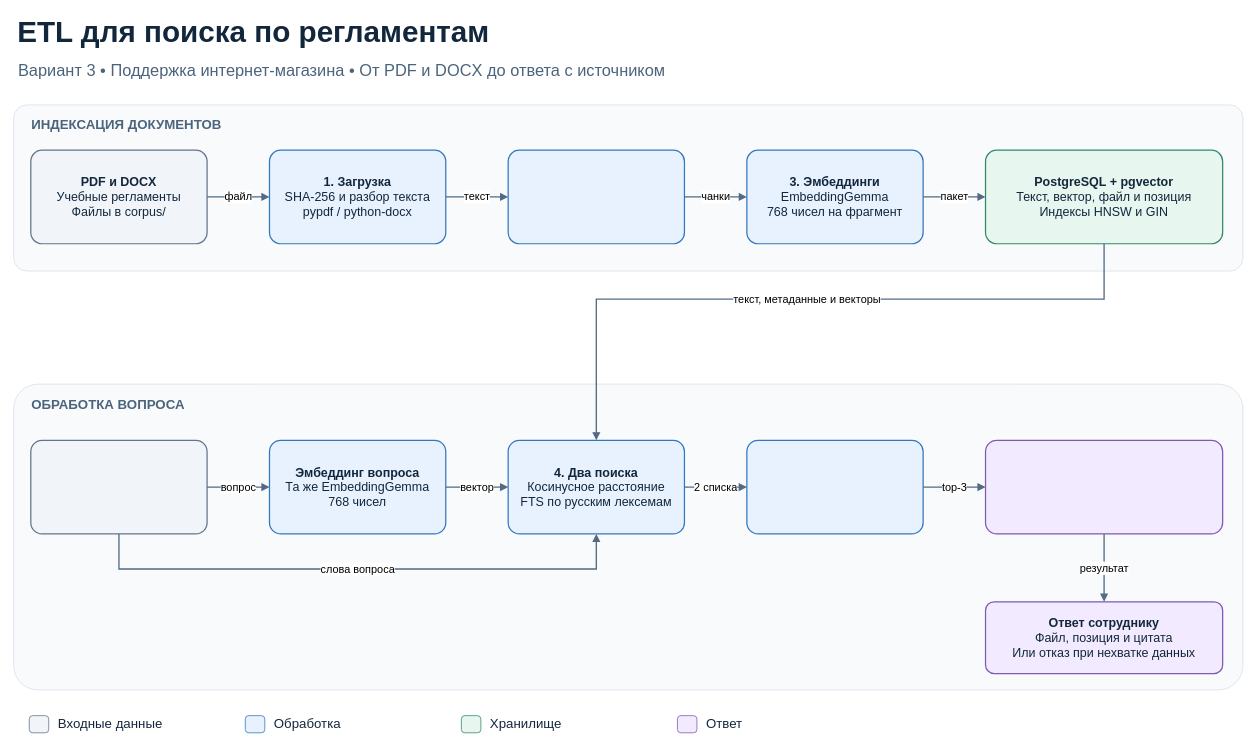
Image size: 1257x750. Some labels were removed from this diagram. Each missing label, with the centre of its shape:
2. Фрагменты Страница PDF / раздел DOCX Окно 650, перекрытие 90: (x=596, y=196)
5. Генерация Qwen2.5 1.5B в Ollama Вопрос + найденный контекст: (x=1104, y=486)
Вопрос сотрудника Ввод через CLI Текст на русском: (x=118, y=486)
Объединение RRF До 8 кандидатов на поиск Порог 0,38 и top-3: (x=834, y=486)
